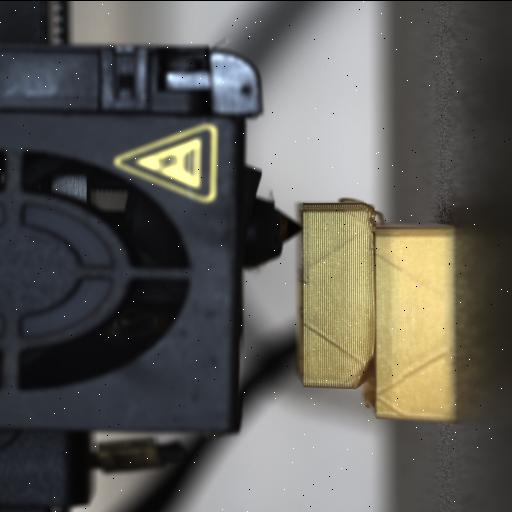layer_shift: (358, 200, 384, 420)
